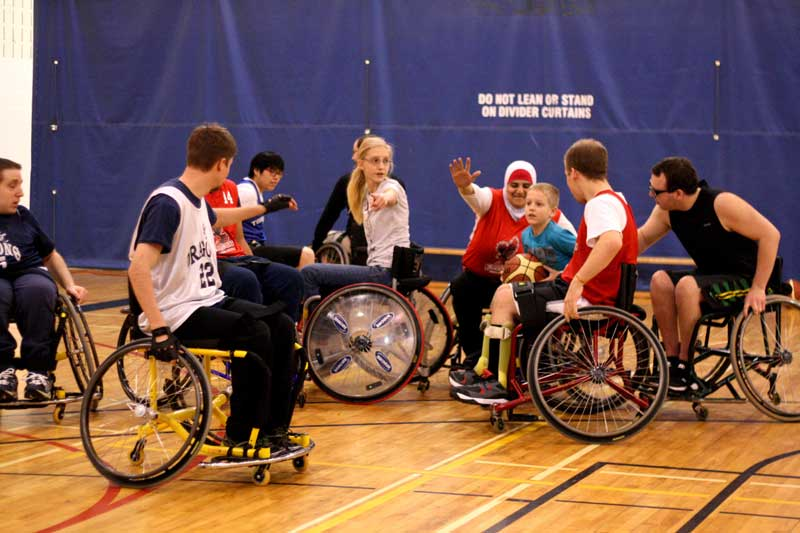person: (120, 122, 277, 346), (634, 135, 800, 297), (327, 124, 424, 271), (550, 138, 627, 310), (499, 171, 567, 270)
wheelchair: (86, 338, 297, 499), (513, 299, 663, 432), (293, 281, 450, 403), (706, 297, 800, 403)
